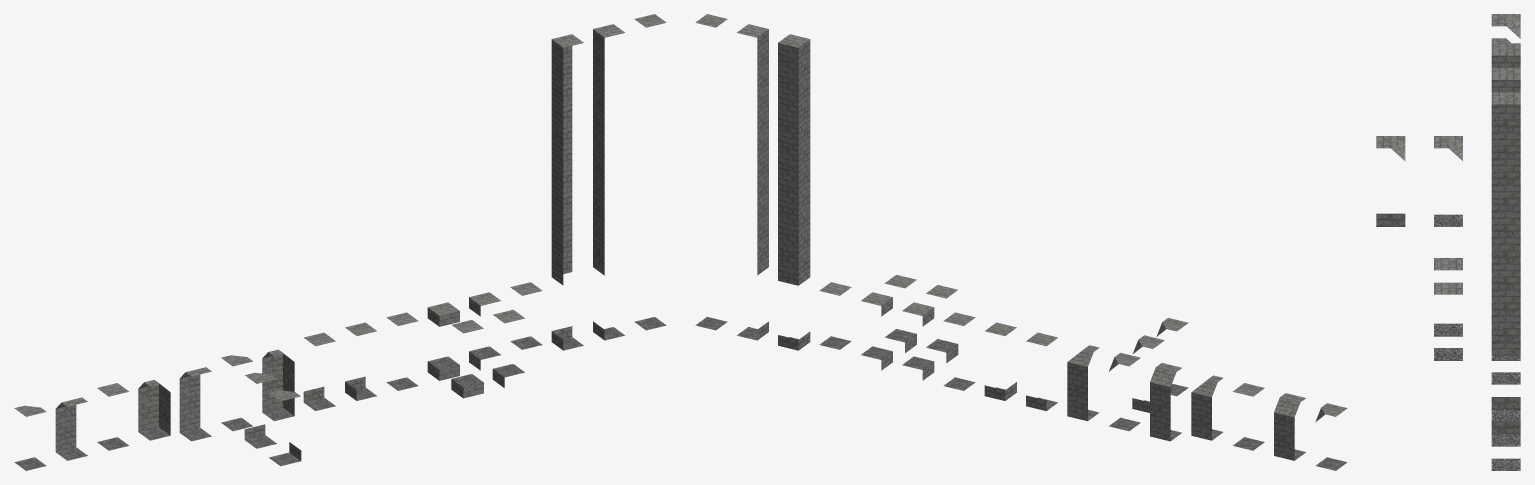
Rendered from tilesets.glb.
The picture shows the model from 3 angles, left to right: view 1: azimuth 30°, elevation 25°; view 2: azimuth 150°, elevation 25°; view 3: azimuth 270°, elevation 25°; orthographic projection. The views are drawn at different scales.
Visible parts, largest first — view 1: chasm-pool-corner-no-cel-col, chasm-pool-wall-no-cel-col, pool-corner-in-col, short-corner-in-col, pool-wall-full-col, short-wall-col, extr-corner-col, extr-corner-no-cel-col, extr-wall-col, pool-wall-col, pool-wall-cornet-col, pool-corner-out-1-col (+1 smaller); view 2: chasm-pool-corner-no-cel-col, chasm-pool-wall-no-cel-col, pool-wall-full-col, pool-corner-in-col, short-wall-col, short-corner-in-col, extr-corner-col, extr-wall-col, extr-corner-no-cel-col; view 3: chasm-pool-wall-no-cel-col, chasm-pool-corner-no-cel-col, pool-corner-out-2-col, pool-corner-out-1-col, extr-corner-no-cel-col, chasm-pool-no-cel-col, extr-wall-no-cel-col, short-corner-out-col, extr-col, extr-wall-col.
Boxes of the visible parts, <box> form: chasm-pool-corner-no-cel-col: <box>551,34,583,350</box>; chasm-pool-wall-no-cel-col: <box>593,24,624,340</box>; pool-corner-in-col: <box>262,349,294,421</box>; short-corner-in-col: <box>138,380,170,440</box>; pool-wall-full-col: <box>179,367,211,441</box>; short-wall-col: <box>55,397,87,460</box>; extr-corner-col: <box>427,302,459,380</box>; extr-corner-no-cel-col: <box>451,320,483,398</box>; extr-wall-col: <box>469,292,500,370</box>; pool-wall-col: <box>303,332,335,410</box>; pool-wall-cornet-col: <box>345,322,376,400</box>; pool-corner-out-1-col: <box>244,372,276,448</box>; chasm-pool-corner-no-cel-col: <box>778,34,810,350</box>; chasm-pool-wall-no-cel-col: <box>737,24,768,340</box>; pool-wall-full-col: <box>1150,363,1181,441</box>; pool-corner-in-col: <box>1067,345,1099,421</box>; short-wall-col: <box>1274,393,1305,460</box>; short-corner-in-col: <box>1191,375,1223,440</box>; extr-corner-col: <box>902,302,934,380</box>; extr-wall-col: <box>861,292,892,370</box>; extr-corner-no-cel-col: <box>926,285,958,363</box>; chasm-pool-wall-no-cel-col: <box>1491,68,1520,446</box>; chasm-pool-corner-no-cel-col: <box>1491,43,1520,421</box>; pool-corner-out-2-col: <box>1376,136,1405,226</box>; pool-corner-out-1-col: <box>1434,136,1462,226</box>; extr-corner-no-cel-col: <box>1434,258,1462,336</box>; chasm-pool-no-cel-col: <box>1491,92,1520,470</box>; extr-wall-no-cel-col: <box>1434,282,1462,360</box>; short-corner-out-col: <box>1491,14,1520,38</box>; extr-col: <box>1491,372,1520,384</box>; extr-wall-col: <box>1491,355,1520,360</box>.
Bounding box in the file's own units: 31 × 14 × 5.
14 materials, 14 textured.
